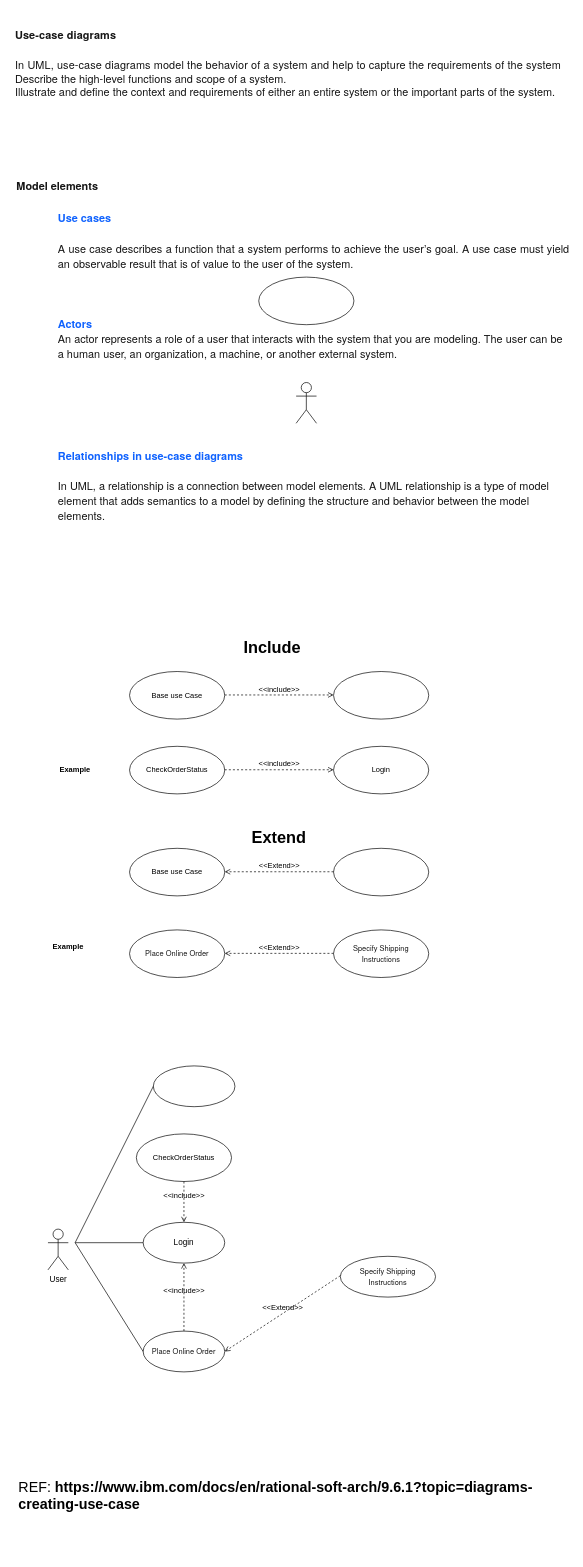
This 583x1567 diagram has some shape labels left out. The shapes that lost their labels are listed below. From the top down, each one's box as (x1, y1, x2, y2) in pixels, then its label:
(258, 276, 354, 325): Use Case
(295, 382, 317, 423): Actor
(333, 671, 429, 719): Inclusion Use Case
(333, 848, 429, 896): Extension use case
(153, 1065, 235, 1107): Sign Up
